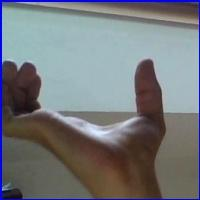B: (0, 43, 176, 185)
